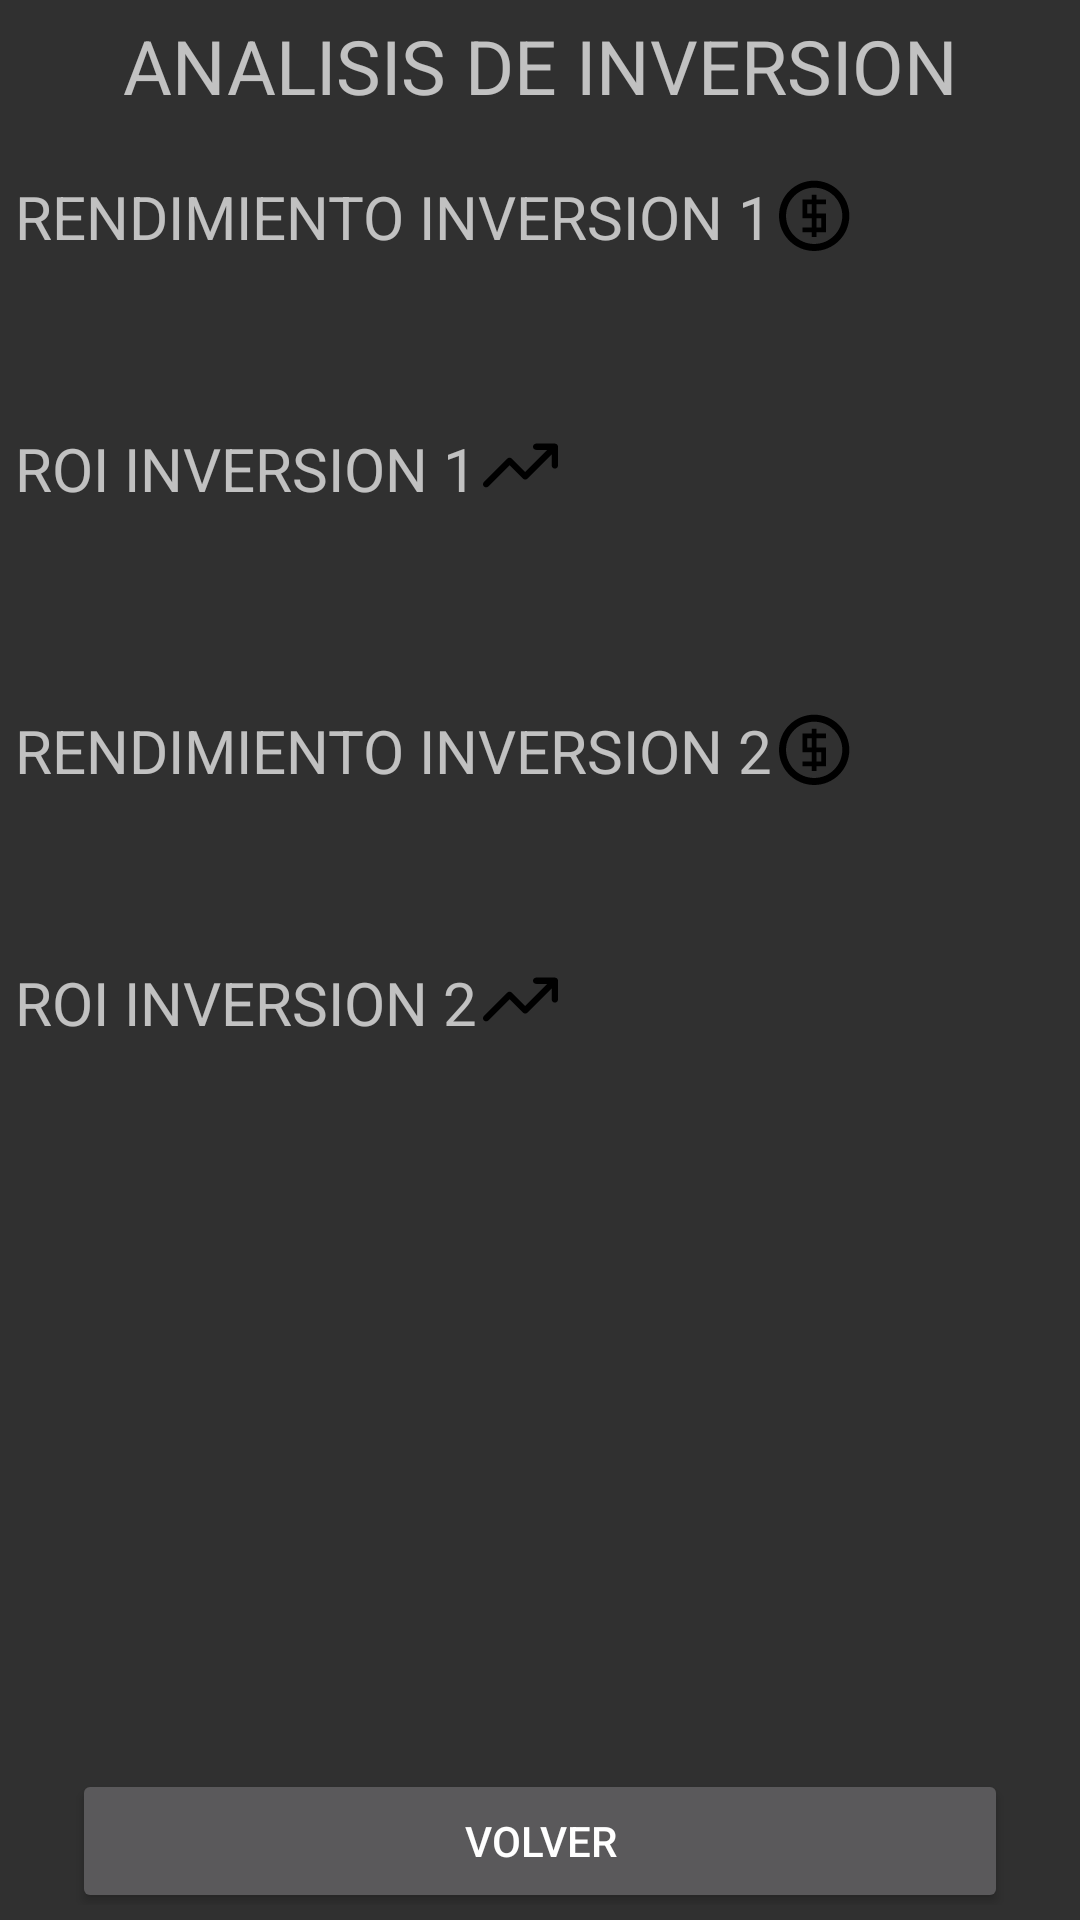

Icon bounding boxes for this 1080 x 1920 phone screenshot, format (x1, y1, x2, y2):
coin dollar: (779, 181, 849, 251), (779, 715, 849, 785)
trending up: (483, 444, 558, 487), (483, 978, 558, 1021)
